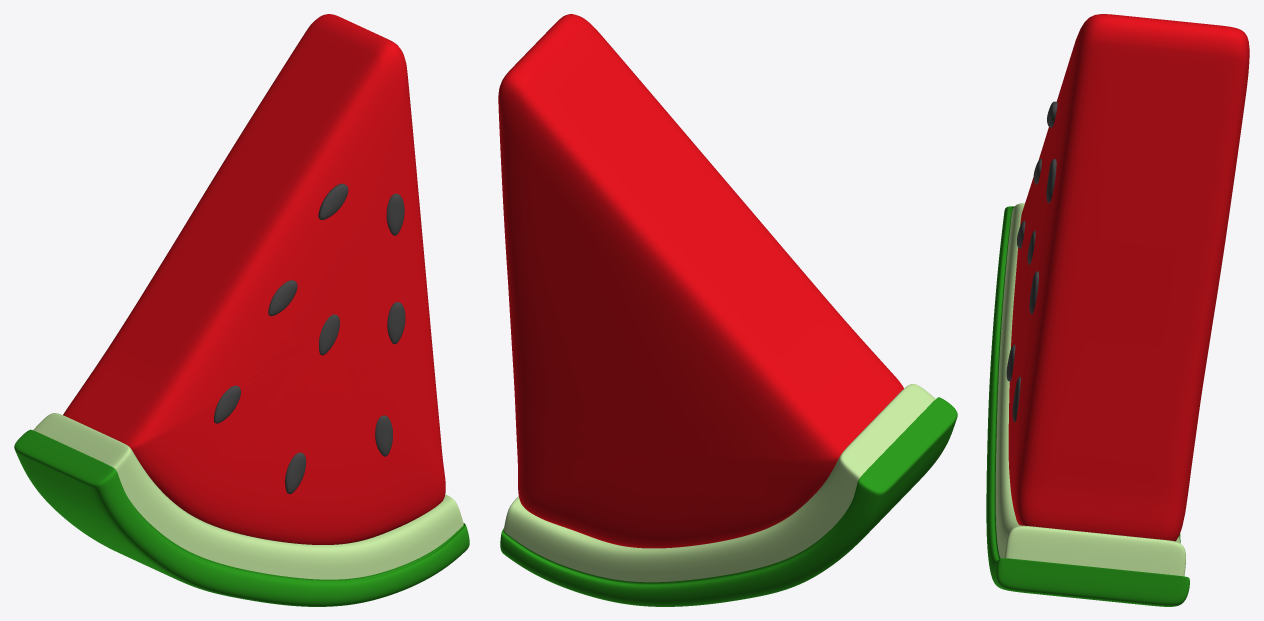
File: Watermelon.glb
The picture shows the model from 3 angles, left to right: view 1: azimuth 30°, elevation 25°; view 2: azimuth 150°, elevation 25°; view 3: azimuth 270°, elevation 25°; orthographic projection. The views are drawn at different scales.
Visible parts, largest first — view 1: Cube.022, Cube.026, Cube.028, Cube.035, Cube.032, Cube.031, Cube.027, Cube.029; view 2: Cube.022, Cube.026; view 3: Cube.022, Cube.026.
Part boxes in pixels (left/top/right/bottom): Cube.022: left=63, top=14, right=445, bottom=544; Cube.026: left=14, top=413, right=469, bottom=606; Cube.028: left=318, top=183, right=348, bottom=219; Cube.035: left=268, top=280, right=297, bottom=316; Cube.032: left=285, top=452, right=306, bottom=493; Cube.031: left=214, top=385, right=240, bottom=423; Cube.027: left=386, top=193, right=404, bottom=235; Cube.029: left=387, top=302, right=405, bottom=344; Cube.022: left=498, top=14, right=903, bottom=548; Cube.026: left=500, top=384, right=957, bottom=606; Cube.022: left=1008, top=14, right=1249, bottom=541; Cube.026: left=986, top=203, right=1189, bottom=606.
Size of the model in its own units: 2.79 by 3.74 by 1.48.
